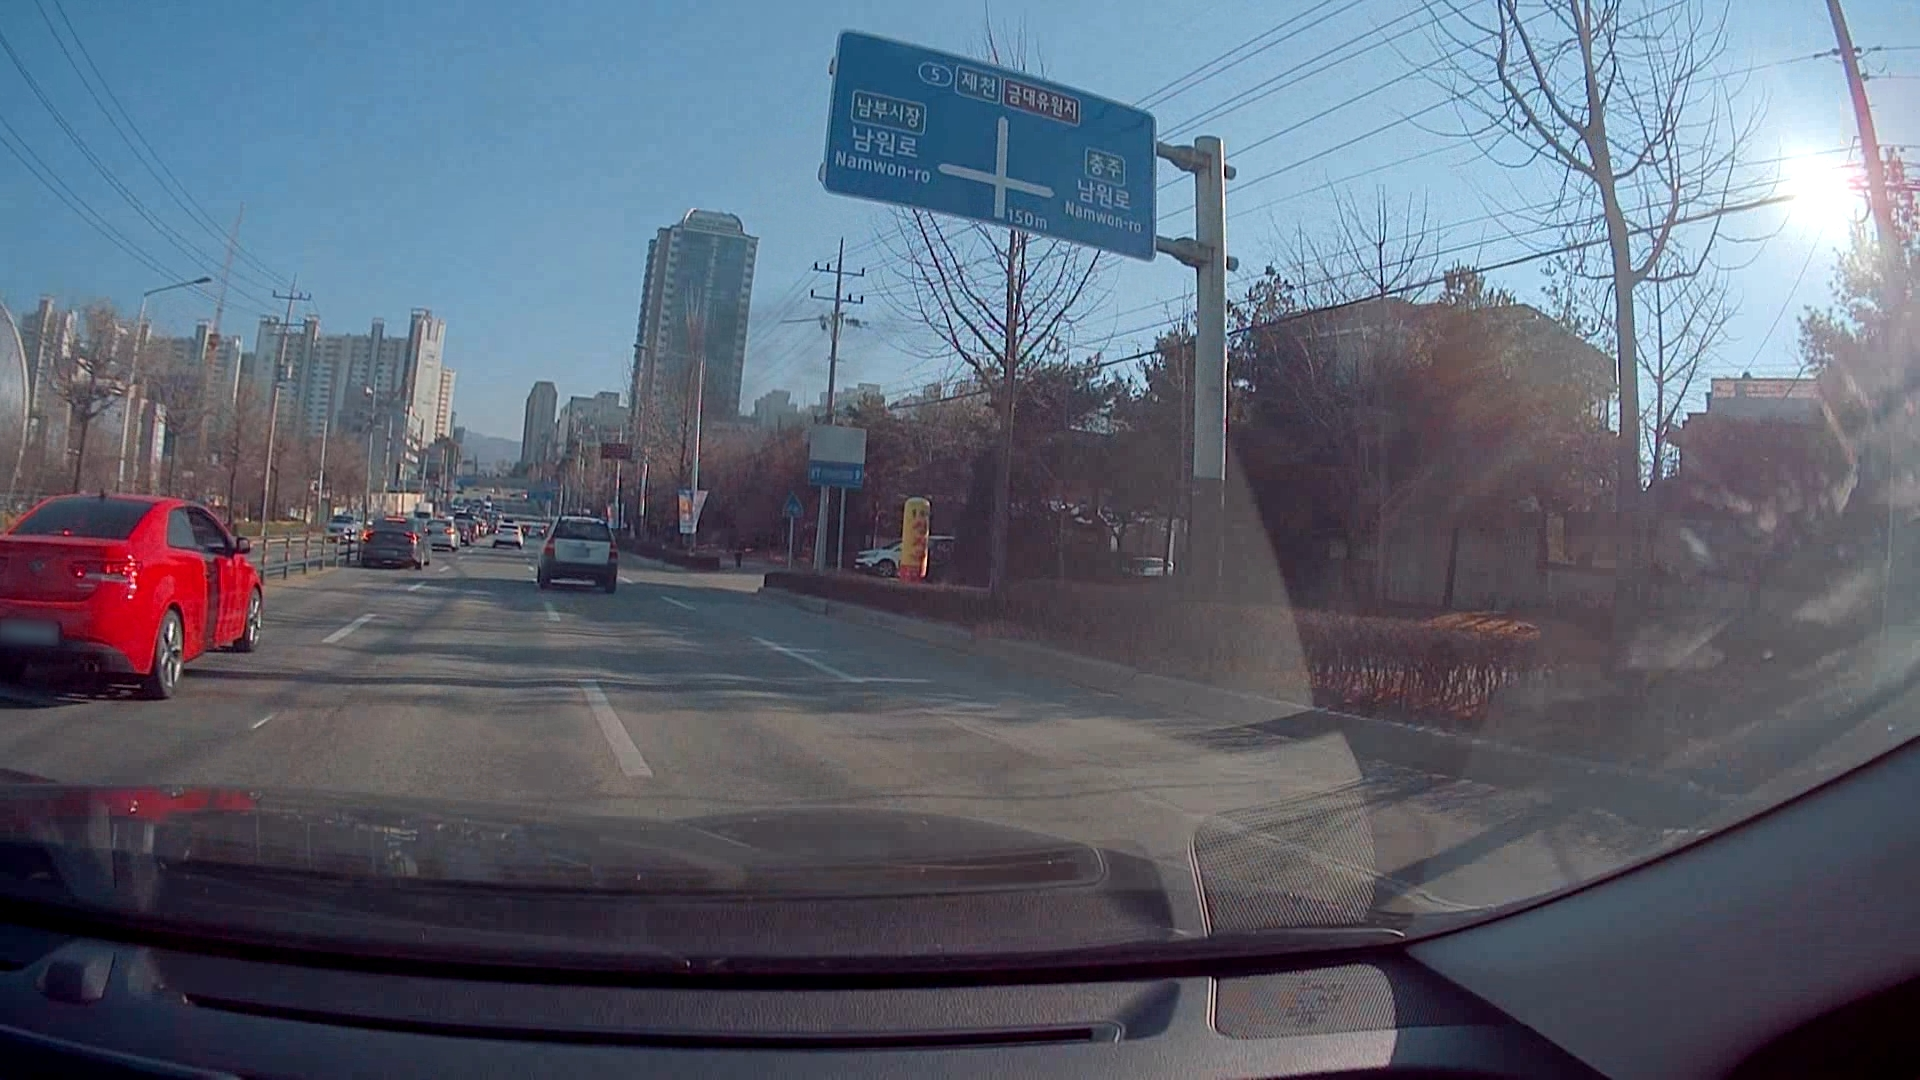trafficSignTri: (782, 488, 808, 520)
